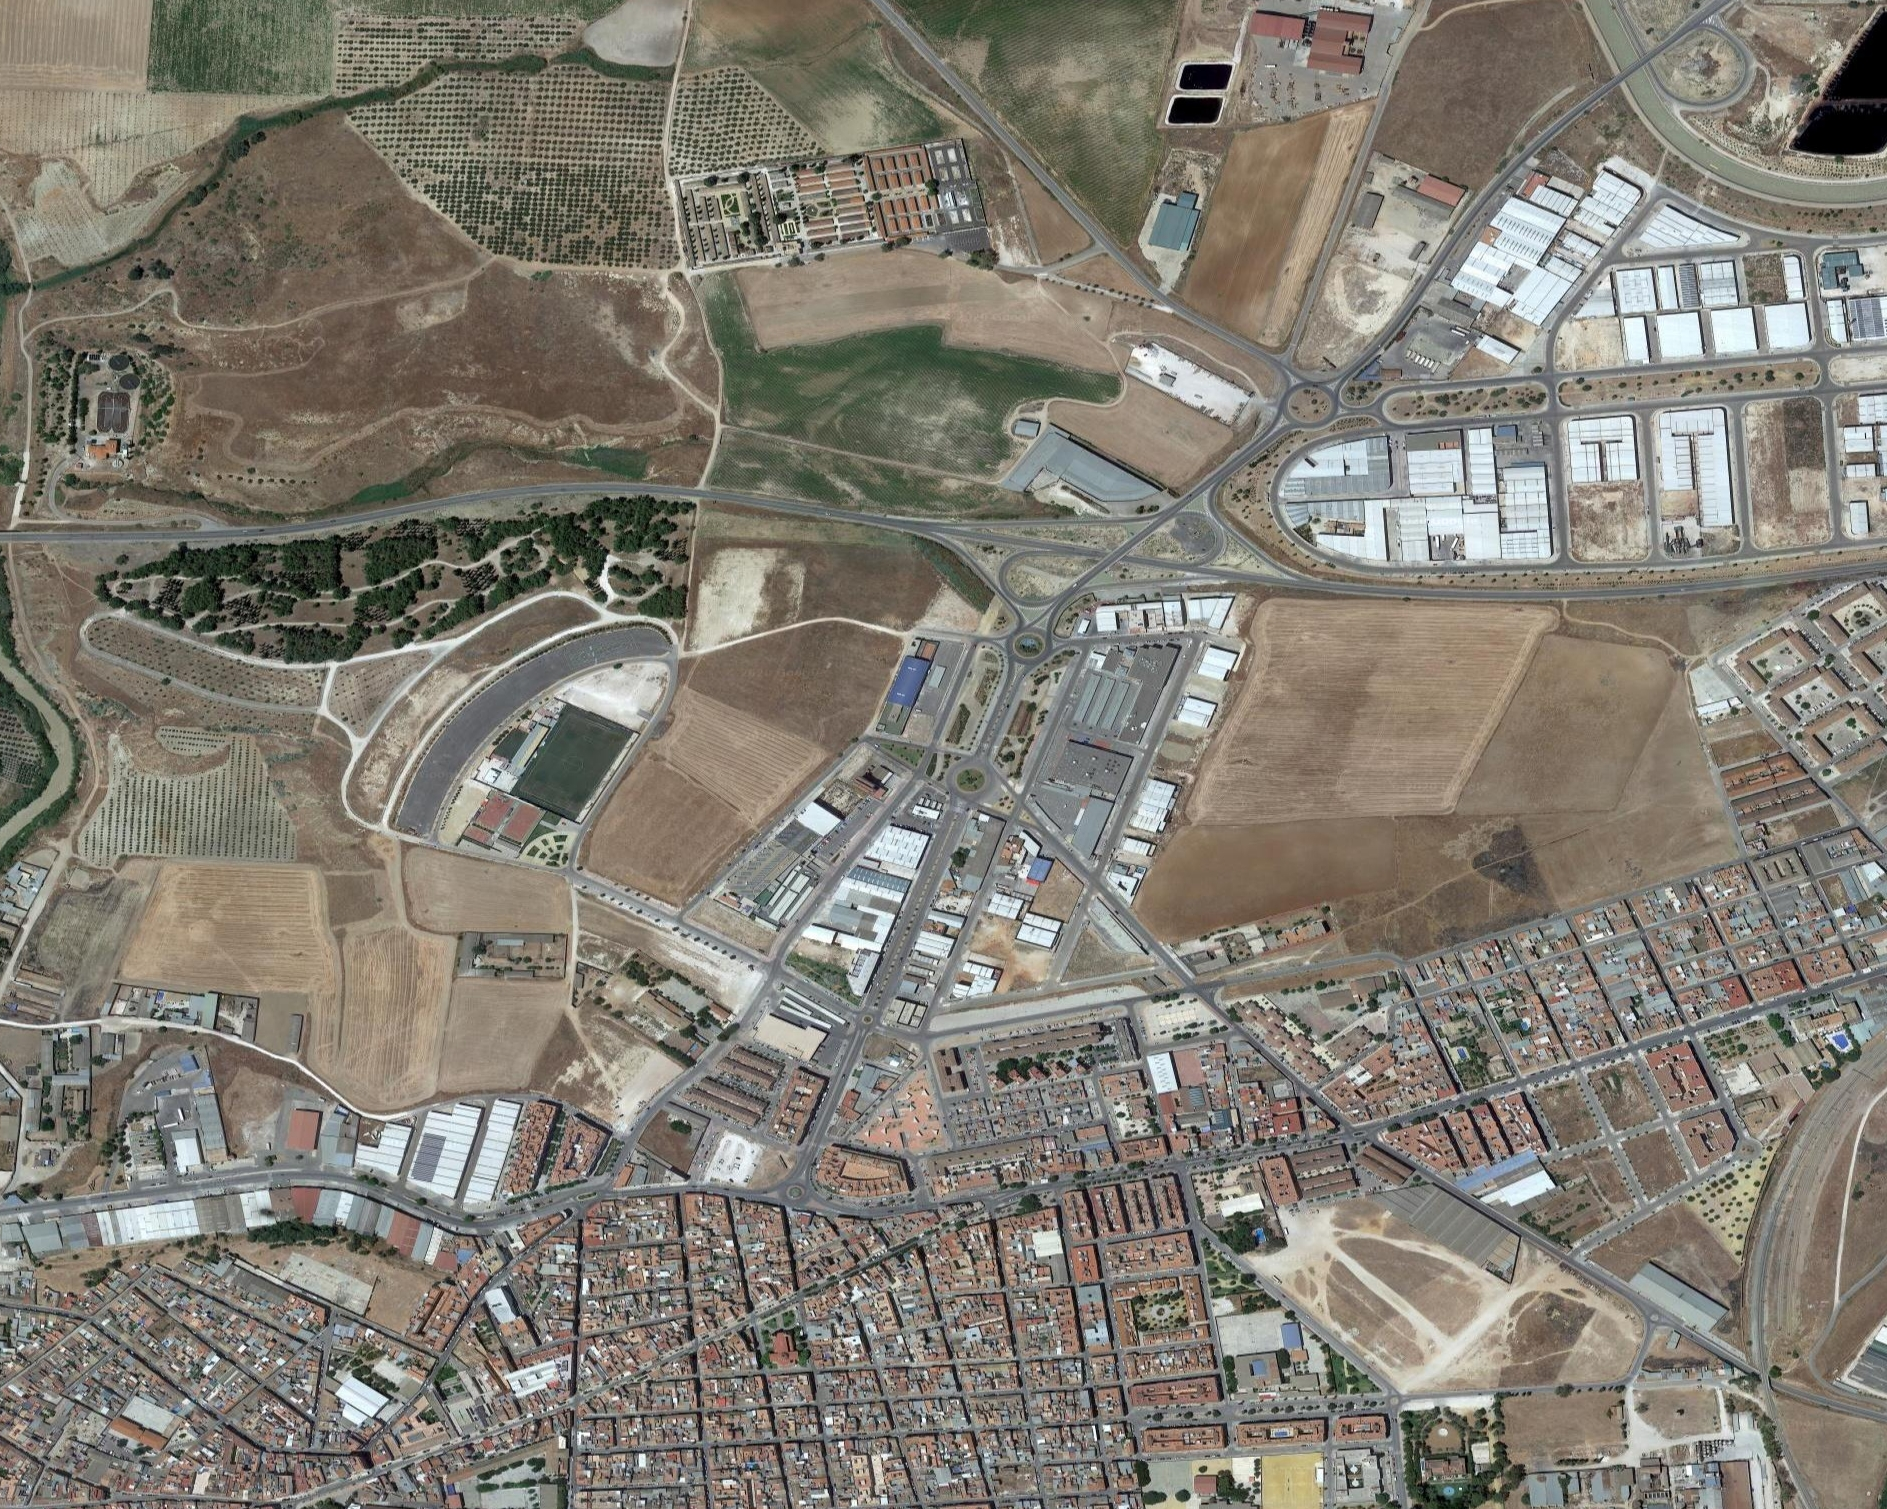industrial: (1248, 182, 1887, 577), (726, 601, 1217, 1016)
motorway: (853, 2, 1301, 363), (1051, 831, 1445, 1200), (1322, 2, 1768, 320), (719, 801, 1042, 1236), (980, 494, 1887, 647), (2, 447, 907, 597), (1445, 1159, 1838, 1480), (877, 510, 1154, 875), (1113, 306, 1501, 517)
